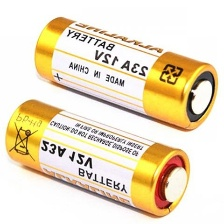battery: (1, 94, 193, 220), (30, 14, 220, 133)
